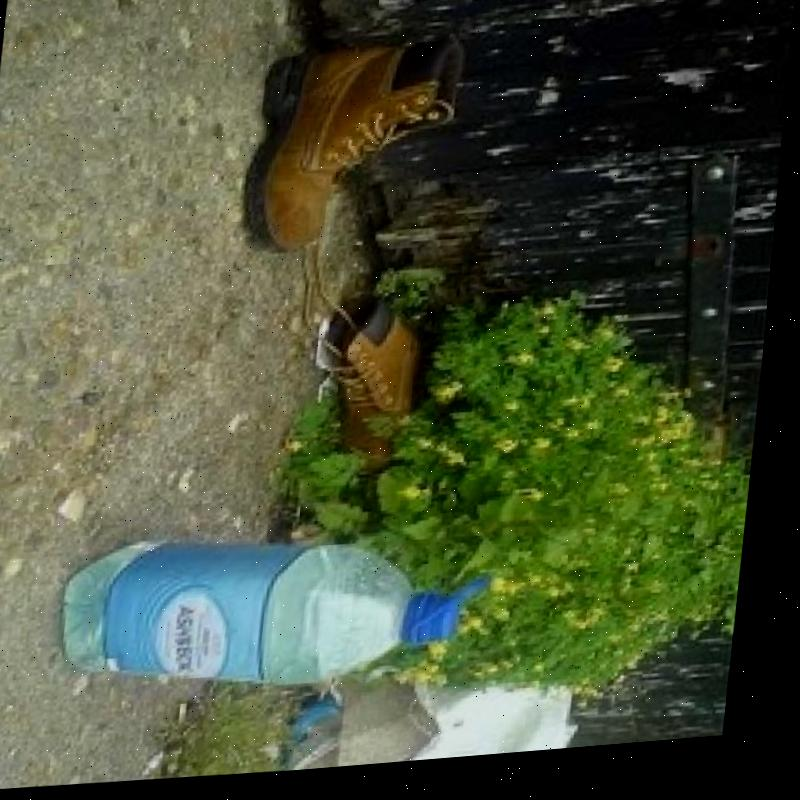botella: (65, 529, 476, 706)
